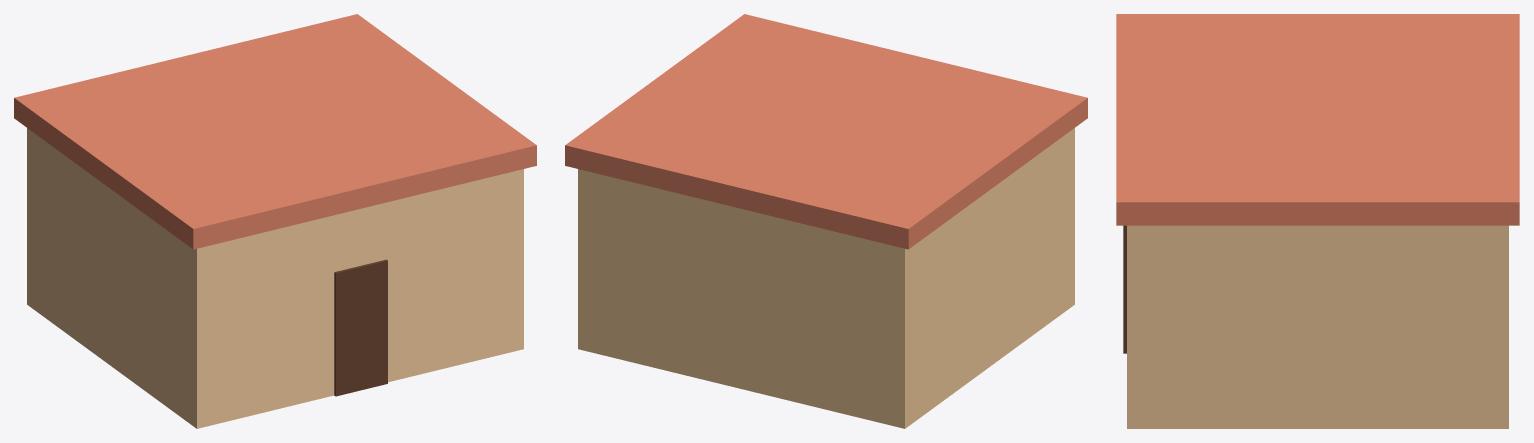
The model's file is gedung_petak.fbx.
3 views of the same model, side by side, from view 1: azimuth 30°, elevation 25°; view 2: azimuth 150°, elevation 25°; view 3: azimuth 270°, elevation 25° (orthographic). The views are drawn at different scales.
Visible parts, largest first — view 1: gedung_petak; view 2: gedung_petak; view 3: gedung_petak.
Part boxes in pixels (box(x1,y1,x2,y2)): gedung_petak: box(14, 14, 536, 428); gedung_petak: box(565, 14, 1087, 428); gedung_petak: box(1116, 14, 1519, 428).
Size of the model in its own units: 525 by 300 by 475.
1 material, 1 textured.
